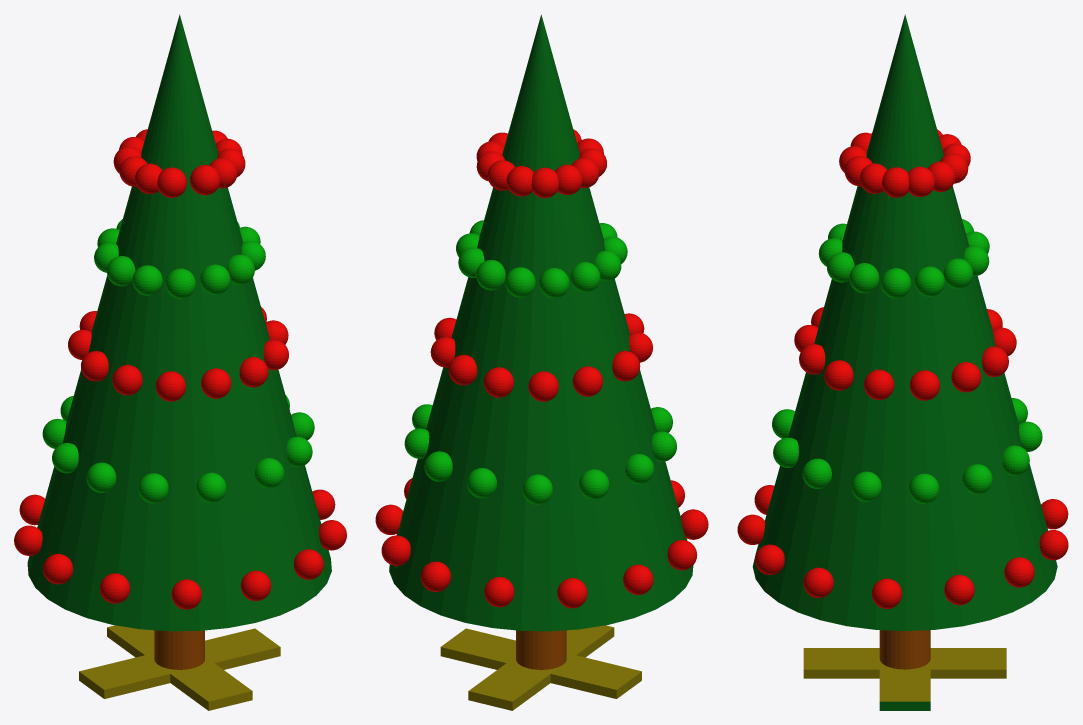
File: ChristmasTree.fbx
3 views of the same model, side by side, from view 1: azimuth 30°, elevation 25°; view 2: azimuth 150°, elevation 25°; view 3: azimuth 270°, elevation 25° (orthographic).
Visible parts, largest first — view 1: ChristmasTree; view 2: ChristmasTree; view 3: ChristmasTree.
Part boxes in pixels (x1=…): ChristmasTree: x1=14, y1=14, x2=346, y2=710; ChristmasTree: x1=375, y1=14, x2=708, y2=710; ChristmasTree: x1=737, y1=14, x2=1068, y2=710.
Bounding box in the file's own units: 1966 × 4260 × 1954.
